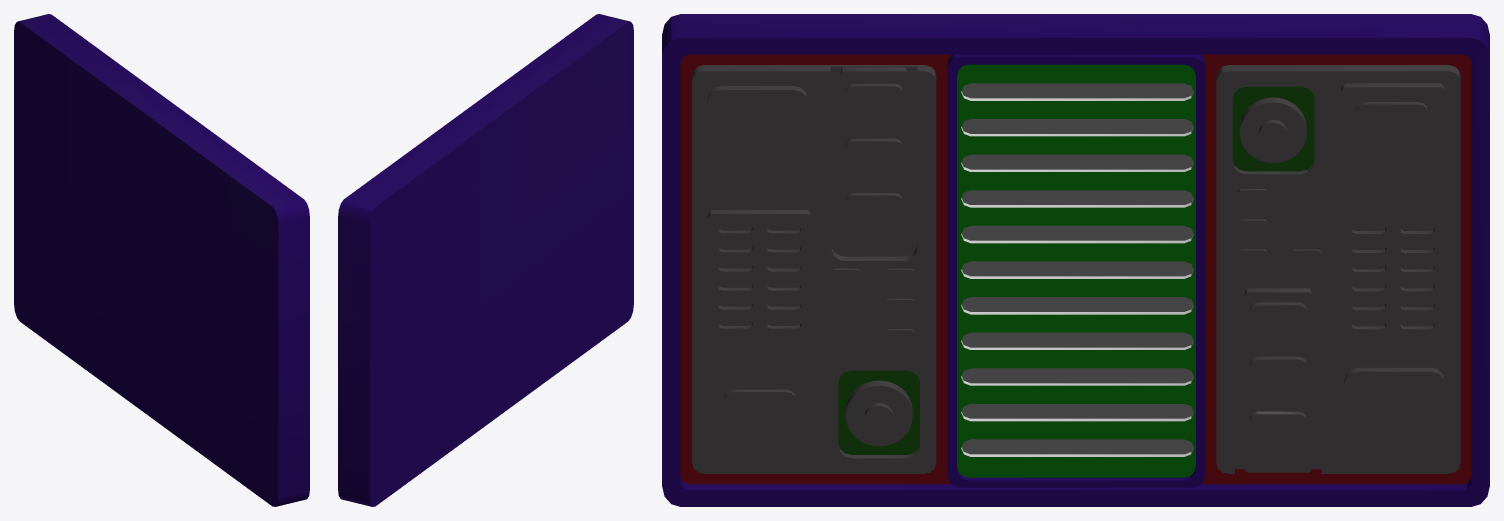
The picture shows the model from 3 angles, left to right: view 1: azimuth 30°, elevation 25°; view 2: azimuth 150°, elevation 25°; view 3: azimuth 270°, elevation 25°; orthographic projection. The views are drawn at different scales.
Visible parts, largest first — view 1: Cube; view 2: Cube; view 3: Cube.
Boxes of the visible parts, x1=… form: Cube: x1=14, y1=14, x2=309, y2=506; Cube: x1=338, y1=14, x2=633, y2=506; Cube: x1=662, y1=14, x2=1489, y2=506.
Size of the model in its own units: 0.2803 by 2 by 3.2.
